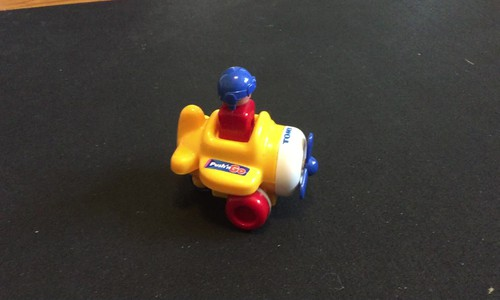toy: (172, 60, 322, 235)
